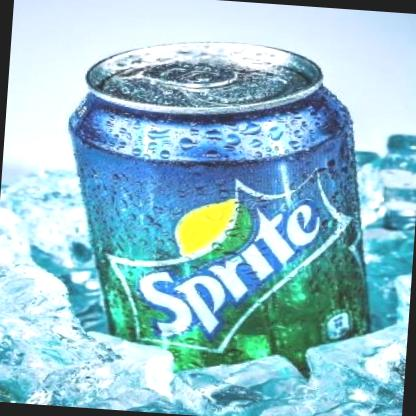alumunium_can: (52, 32, 392, 370)
